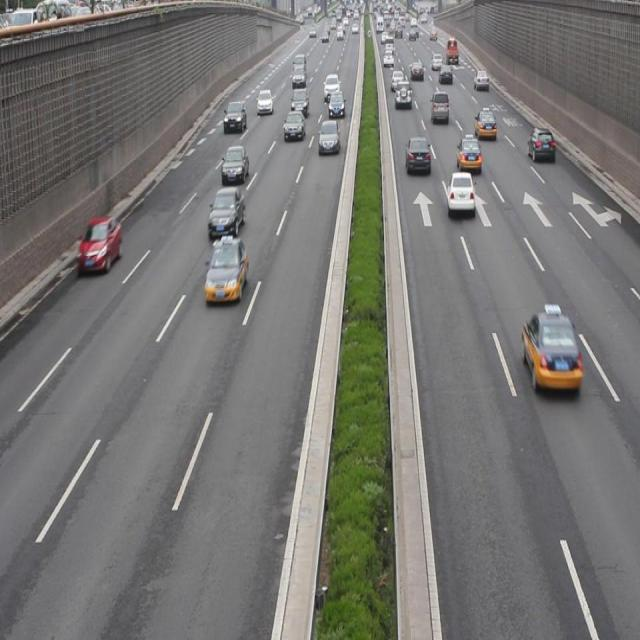car: (522, 303, 579, 396), (206, 239, 247, 303), (80, 218, 121, 268), (206, 187, 243, 238), (446, 172, 474, 214), (219, 144, 248, 182), (525, 126, 552, 164), (455, 134, 480, 174), (404, 137, 429, 171), (316, 120, 339, 156), (282, 110, 306, 144), (224, 98, 247, 133), (474, 106, 496, 141)
